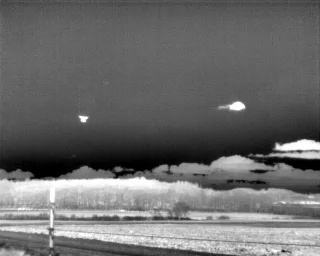DRONE: (75, 110, 92, 127)
